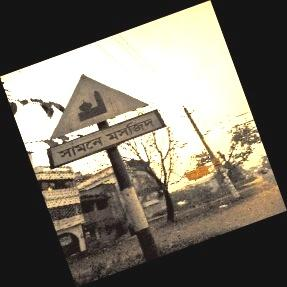Mosque in front: (47, 74, 163, 169)
